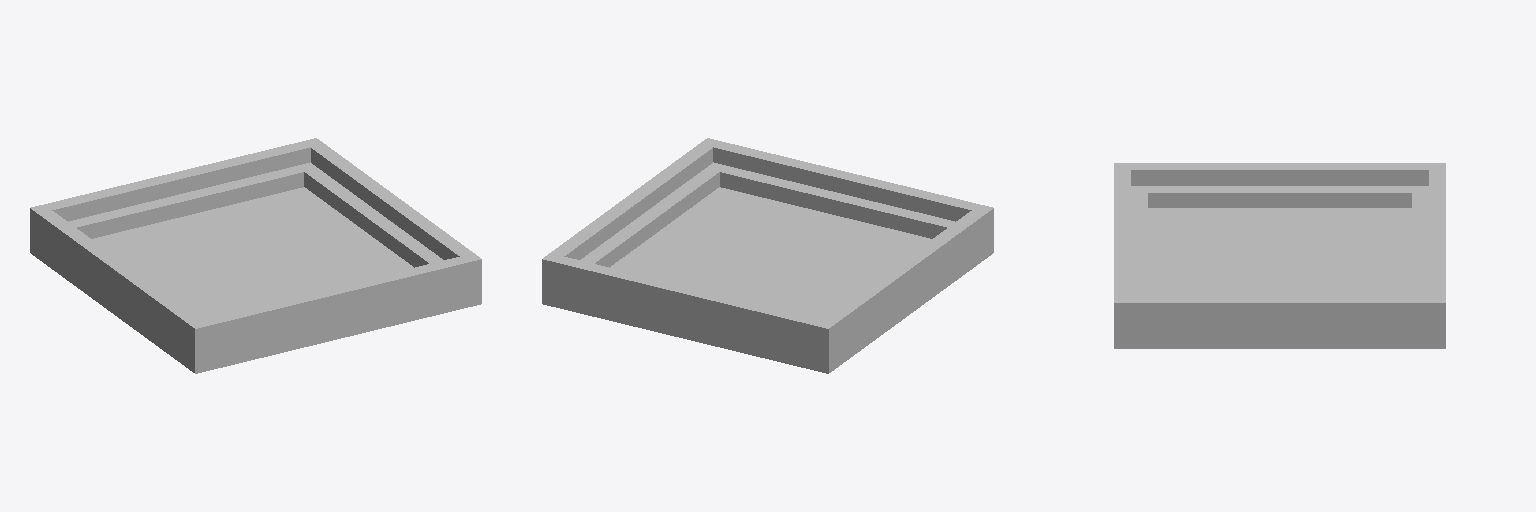
The model's file is bouton_socle.obj.
3 renders of one model, left to right at view 1: azimuth 30°, elevation 25°; view 2: azimuth 150°, elevation 25°; view 3: azimuth 270°, elevation 25°, orthographic.
Visible parts, largest first — view 1: bouton_socle; view 2: bouton_socle; view 3: bouton_socle.
Boxes of the visible parts, <box> form: bouton_socle: <box>30,138,481,373</box>; bouton_socle: <box>542,138,993,373</box>; bouton_socle: <box>1114,163,1445,348</box>.
Bounding box in the file's own units: 20 × 3 × 20.